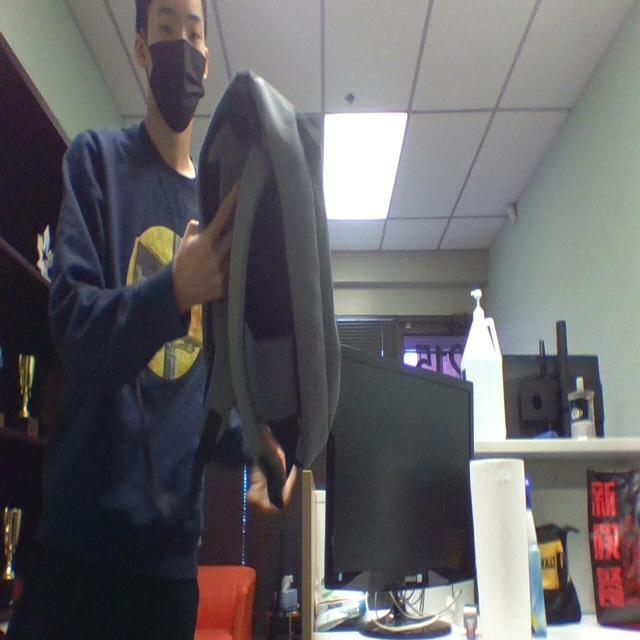Backpacks: (192, 61, 354, 463)
